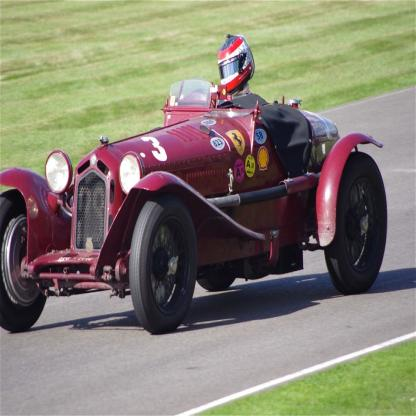Helmet: (216, 36, 257, 92)
